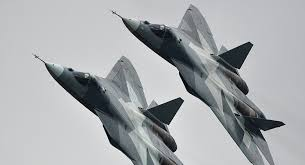fighter: (108, 2, 280, 165), (28, 50, 185, 165)
